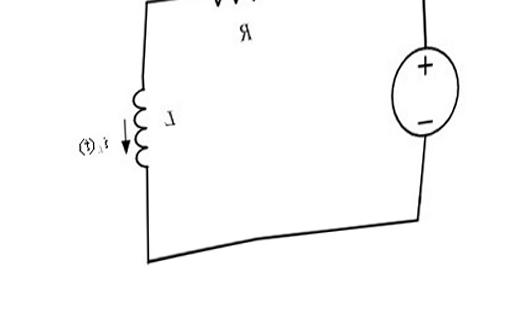Battery: (372, 40, 474, 144)
